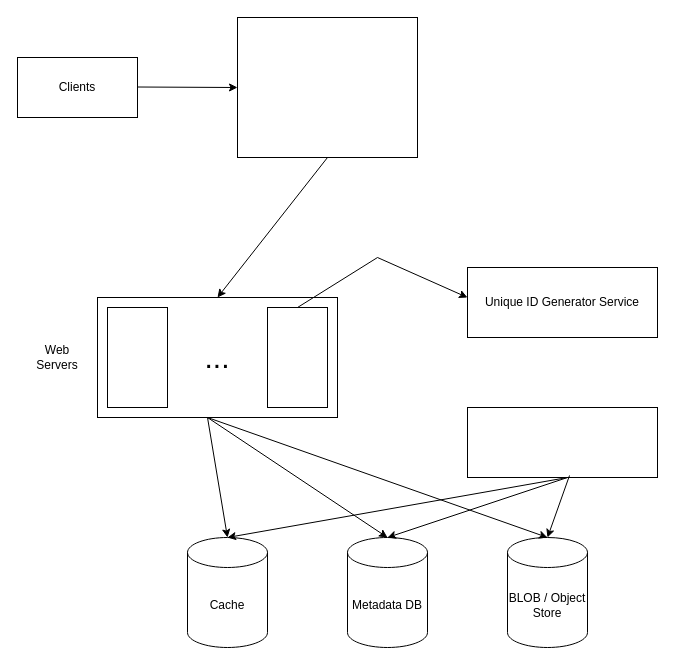
Some shapes in this 675 by 665 pixel diagram are drawn without their labels. The shapes that lost their labels are listed below. From the top down, each one's centre as x and y in pixels, then its label:
At point (327, 87): "Load Balancer - Rate Limiting - Authentication".
At point (562, 442): "Clean Up Service".
